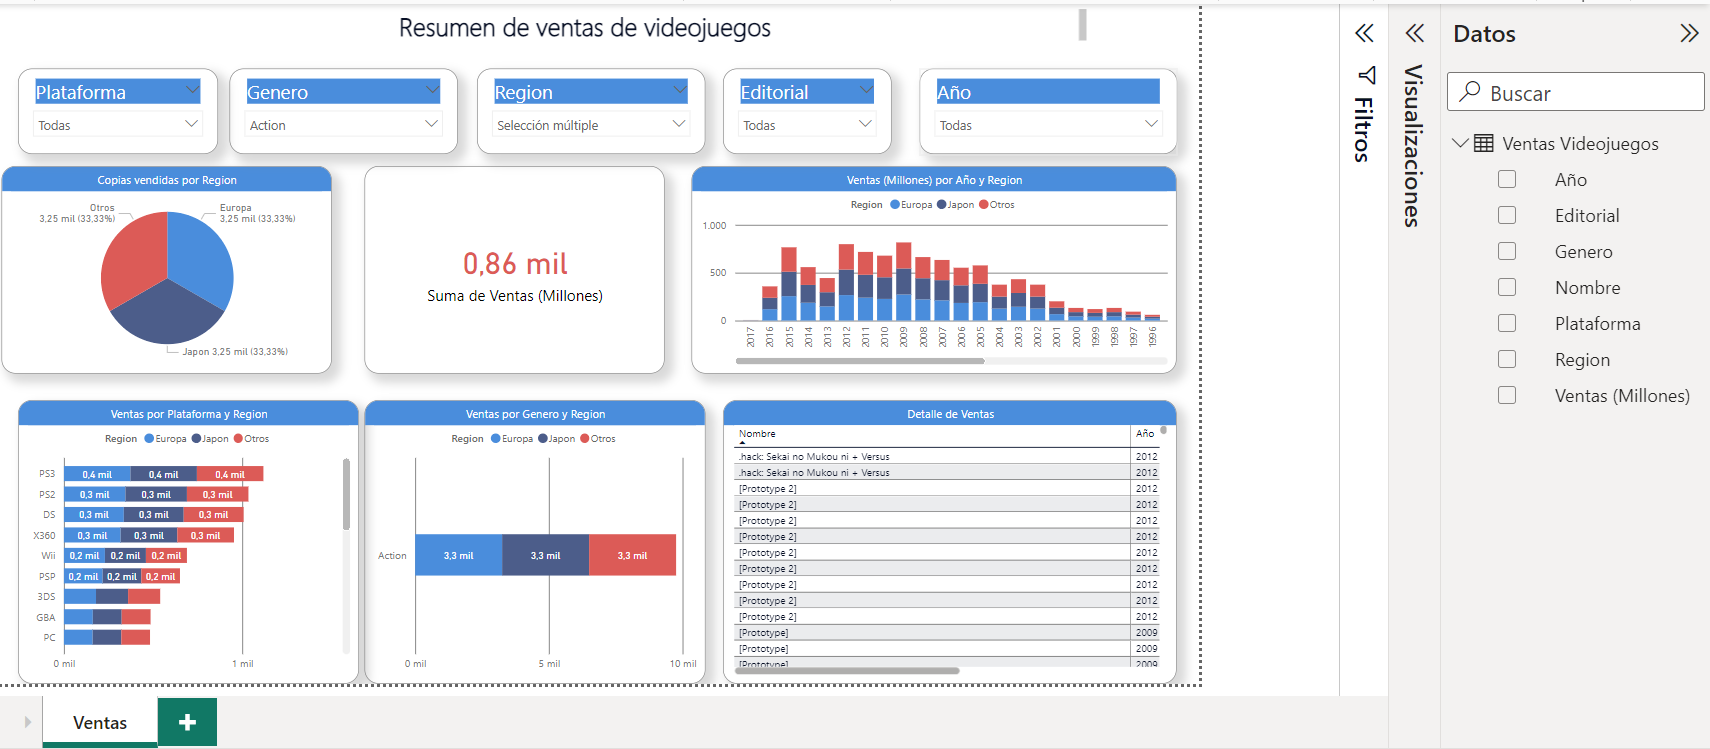

The dashboard page shown, as its layout file describes it:
{"tool":"powerbi","page":{"name":"Ventas ","canvas":[1280,720],"ordinal":0},"visuals":[{"type":"card","title":"Nombre","fields":{"Values":["Sum(Ventas Videojuegos.Ventas (Millones))"]},"box":[396,171.4,318.2,220.3],"z":0},{"type":"columnChart","fields":{"Series":["Ventas Videojuegos.Region"],"Category":["Ventas Videojuegos.Año"],"Y":["CountNonNull(Ventas Videojuegos.Ventas (Millones))"]},"box":[743,171.4,514.1,220.3],"z":1000},{"type":"pieChart","title":"Copias vendidas por Region ","fields":{"Y":["CountNonNull(Ventas Videojuegos.Ventas (Millones))"],"Category":["Ventas Videojuegos.Region"]},"box":[11.5,171.4,349.9,220.3],"z":2000},{"type":"barChart","fields":{"Category":["Ventas Videojuegos.Plataforma"],"Y":["CountNonNull(Ventas Videojuegos.Ventas (Millones))"],"Series":["Ventas Videojuegos.Region"]},"box":[28.8,419,361.4,301],"z":3000},{"type":"barChart","fields":{"Y":["CountNonNull(Ventas Videojuegos.Ventas (Millones))"],"Series":["Ventas Videojuegos.Region"],"Category":["Ventas Videojuegos.Genero"]},"box":[396,419,361.4,301],"z":4000},{"type":"slicer","fields":{"Values":["Ventas Videojuegos.Año"]},"box":[983.5,69.1,273.6,90.7],"z":5000},{"type":"slicer","fields":{"Values":["Ventas Videojuegos.Plataforma"]},"box":[28.8,69.1,211.7,90.7],"z":6000},{"type":"slicer","fields":{"Values":["Ventas Videojuegos.Genero"]},"box":[252,69.1,241.9,90.7],"z":7000},{"type":"slicer","fields":{"Values":["Ventas Videojuegos.Region"]},"box":[515.5,69.1,241.9,90.7],"z":8000},{"type":"slicer","fields":{"Values":["Ventas Videojuegos.Editorial"]},"box":[776.2,69.1,178.6,90.7],"z":9000},{"type":"tableEx","title":"Detalle de Ventas","fields":{"Values":["Ventas Videojuegos.Nombre","Ventas Videojuegos.Año","Ventas Videojuegos.Ventas (Millones)","Ventas Videojuegos.Plataforma","Ventas Videojuegos.Genero","Ventas Videojuegos.Editorial"]},"box":[776.2,419,481,301],"z":10000},{"type":"textbox","box":[99.4,0,1065.6,44.6],"z":10001}]}

Visuals, with their boxes on the page's 1280x720 design canvas (x1, y1, x2, y2). These are canvas units, not pixel positions in the 1710x749 screenshot, which may show the page scaled, cropped or inside an application window:
"Nombre" card: <region>396, 171, 714, 392</region>
columnChart - Ventas Videojuegos.Region x Ventas Videojuegos.Año: <region>743, 171, 1257, 392</region>
"Copias vendidas por Region " pieChart: <region>12, 171, 361, 392</region>
barChart - Ventas Videojuegos.Plataforma x CountNonNull(Ventas Videojuegos.Ventas (Millones)): <region>29, 419, 390, 720</region>
barChart - CountNonNull(Ventas Videojuegos.Ventas (Millones)) x Ventas Videojuegos.Region: <region>396, 419, 757, 720</region>
slicer - Ventas Videojuegos.Año: <region>984, 69, 1257, 160</region>
slicer - Ventas Videojuegos.Plataforma: <region>29, 69, 240, 160</region>
slicer - Ventas Videojuegos.Genero: <region>252, 69, 494, 160</region>
slicer - Ventas Videojuegos.Region: <region>516, 69, 757, 160</region>
slicer - Ventas Videojuegos.Editorial: <region>776, 69, 955, 160</region>
"Detalle de Ventas" tableEx: <region>776, 419, 1257, 720</region>
textbox: <region>99, 0, 1165, 45</region>
